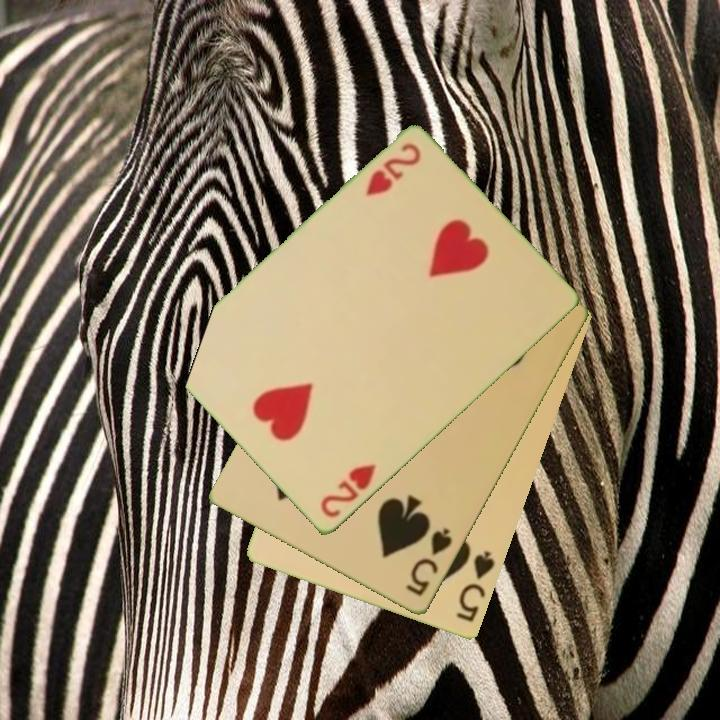2h: (317, 461, 379, 522), (361, 140, 424, 200)
5s: (402, 524, 456, 600), (452, 547, 499, 626)
